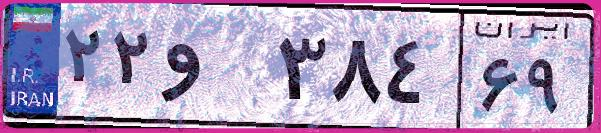2: (57, 26, 110, 100), (110, 28, 158, 98)
3: (270, 28, 330, 110)
4: (385, 28, 445, 110)
6: (475, 38, 525, 113)
8: (330, 28, 385, 110)
9: (525, 38, 570, 115)
و: (158, 20, 270, 120)
